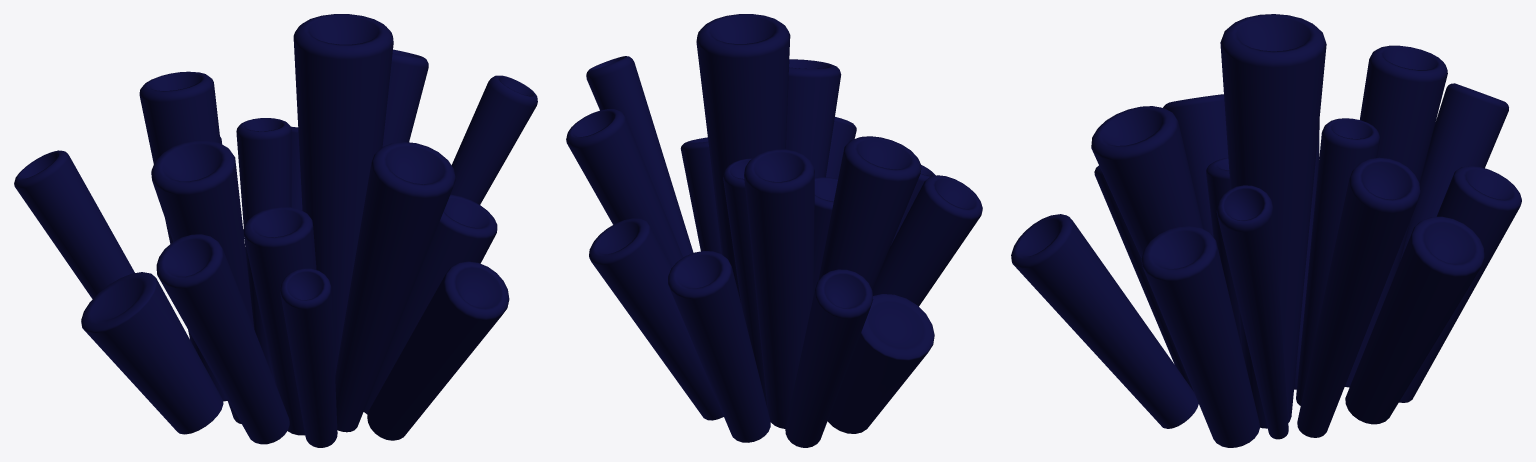
File: coral_7.obj
3 renders of one model, left to right at view 1: azimuth 30°, elevation 25°; view 2: azimuth 150°, elevation 25°; view 3: azimuth 270°, elevation 25°, orthographic. The views are drawn at different scales.
Parts seen in each view (by area): view 1: pCylinder35_ParlakVersiyon_0; view 2: pCylinder35_ParlakVersiyon_0; view 3: pCylinder35_ParlakVersiyon_0.
Part boxes in pixels (x1,y1,x2,y2): pCylinder35_ParlakVersiyon_0: (14, 14, 537, 447); pCylinder35_ParlakVersiyon_0: (566, 14, 982, 447); pCylinder35_ParlakVersiyon_0: (1011, 14, 1521, 447).
Size of the model in its own units: 1.18 by 1.05 by 1.21.
